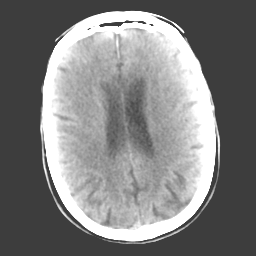ischemic: (54, 50, 105, 154)
